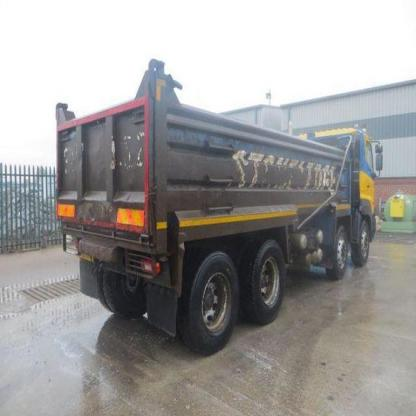dump_truck: (46, 51, 409, 358)
